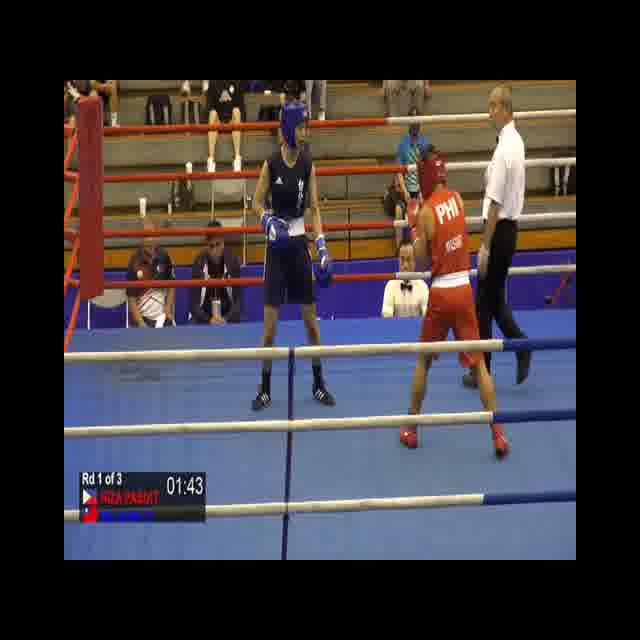blue-player: (249, 100, 337, 415)
red-player: (398, 151, 510, 461)
referee: (457, 83, 534, 397)
